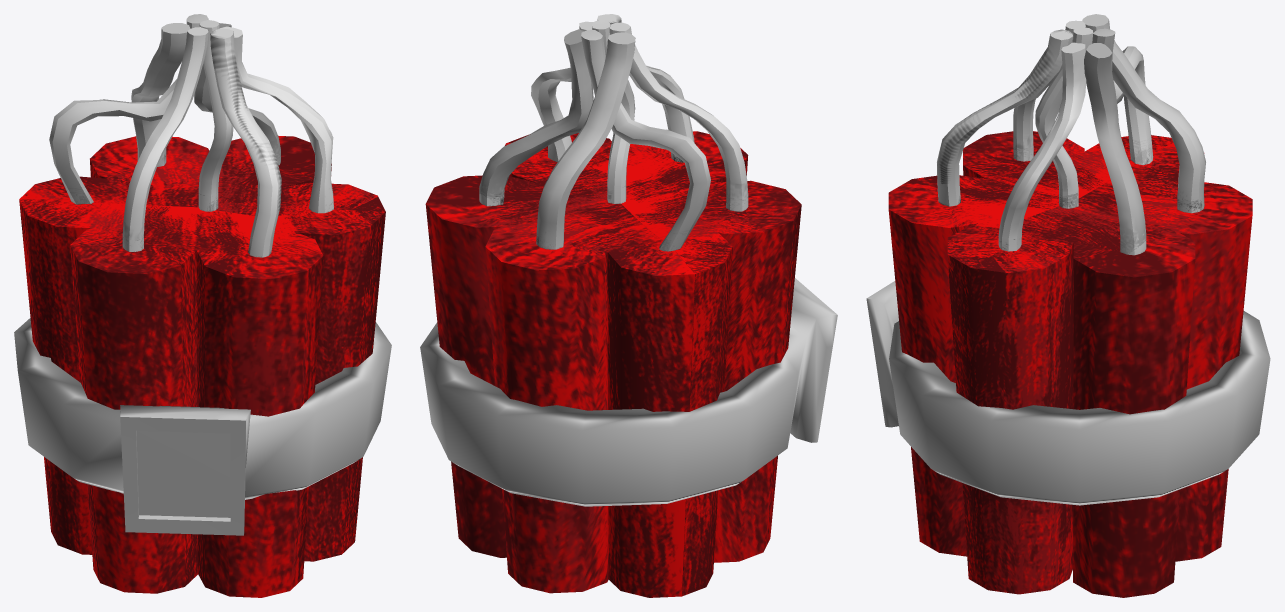
The model's file is dynamite_v02.fbx.
The picture shows the model from 3 angles, left to right: view 1: azimuth 30°, elevation 25°; view 2: azimuth 150°, elevation 25°; view 3: azimuth 270°, elevation 25°; orthographic projection.
Visible parts, largest first — view 1: pasted__pasted__pasted__pCylinder1.001, pTorus1; view 2: pasted__pasted__pasted__pCylinder1.001, pTorus1; view 3: pasted__pasted__pasted__pCylinder1.001, pTorus1.
Part boxes in pixels (x1=…): pasted__pasted__pasted__pCylinder1.001: x1=19, y1=14, x2=385, y2=597; pTorus1: x1=14, y1=318, x2=391, y2=535; pasted__pasted__pasted__pCylinder1.001: x1=425, y1=14, x2=801, y2=597; pTorus1: x1=420, y1=278, x2=837, y2=506; pasted__pasted__pasted__pCylinder1.001: x1=888, y1=14, x2=1252, y2=597; pTorus1: x1=866, y1=281, x2=1270, y2=505.
Bounding box in the file's own units: 93.78 × 140 × 100.
